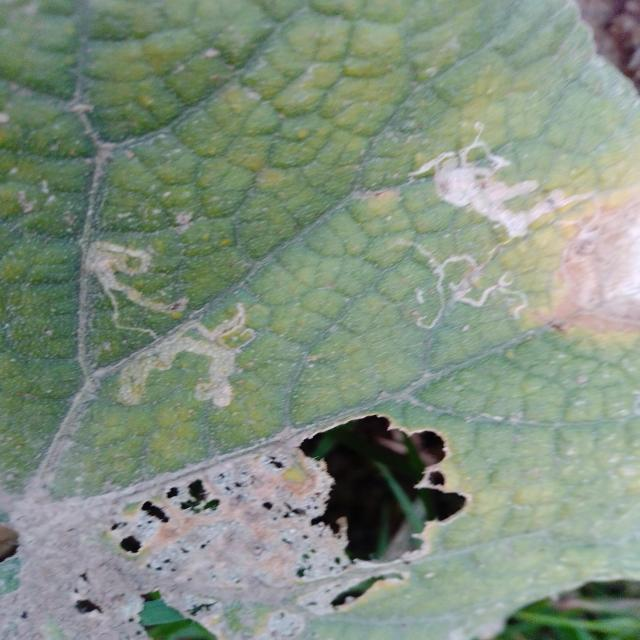cucumber_anthracnose: (14, 4, 636, 626)
